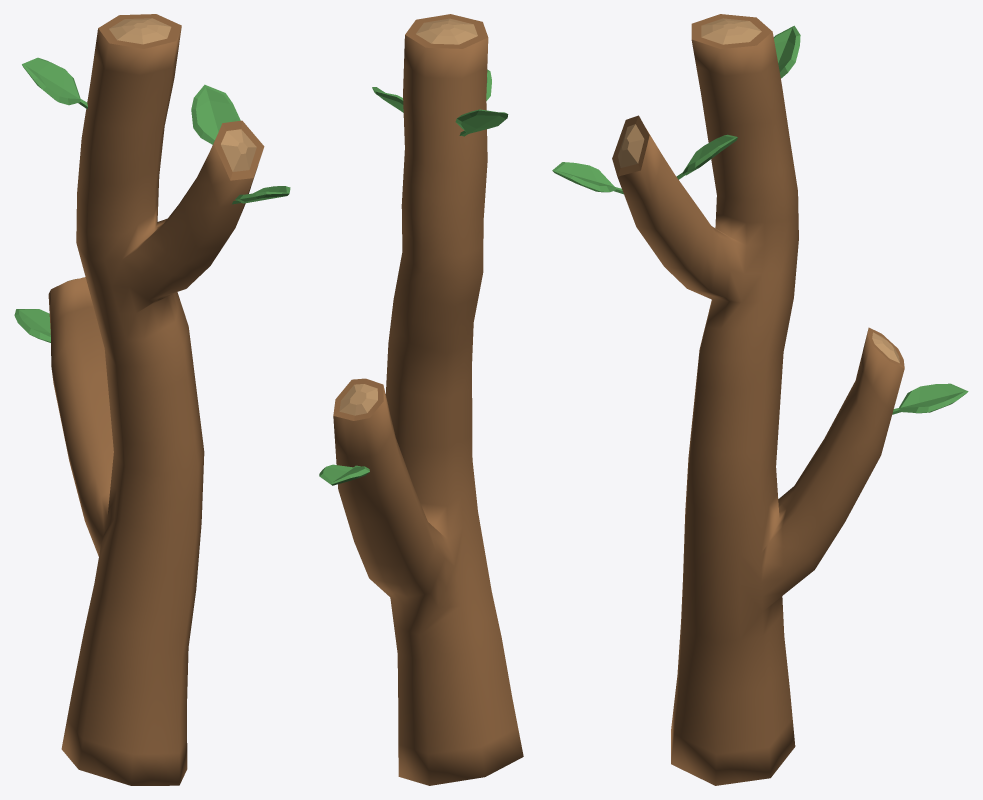
Rendered from branches leaf 03.fbx.
3 renders of one model, left to right at view 1: azimuth 30°, elevation 25°; view 2: azimuth 150°, elevation 25°; view 3: azimuth 270°, elevation 25°, orthographic.
Parts seen in each view (by area): view 1: Cylinder.004; view 2: Cylinder.004; view 3: Cylinder.004.
Part boxes in pixels (bbox=[...]): Cylinder.004: bbox=[14, 14, 290, 785]; Cylinder.004: bbox=[319, 14, 523, 785]; Cylinder.004: bbox=[552, 14, 968, 785].
Bounding box in the file's own units: 146 × 617 × 314.
